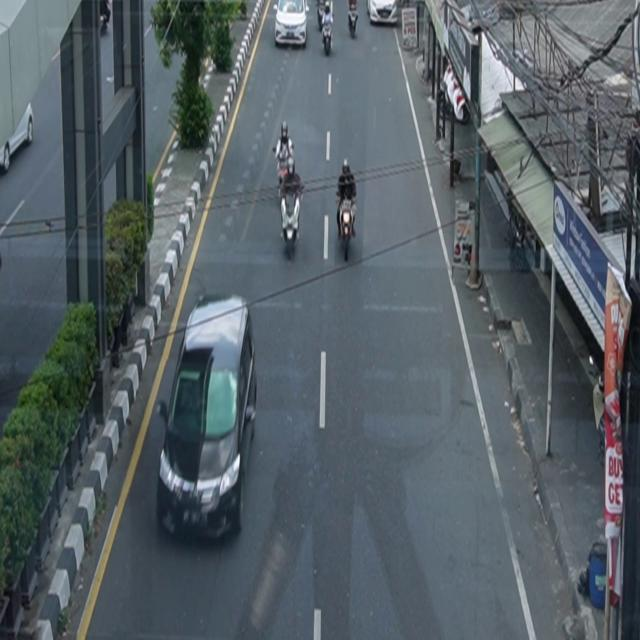car: (157, 293, 258, 544), (275, 1, 310, 48), (367, 1, 398, 26)
